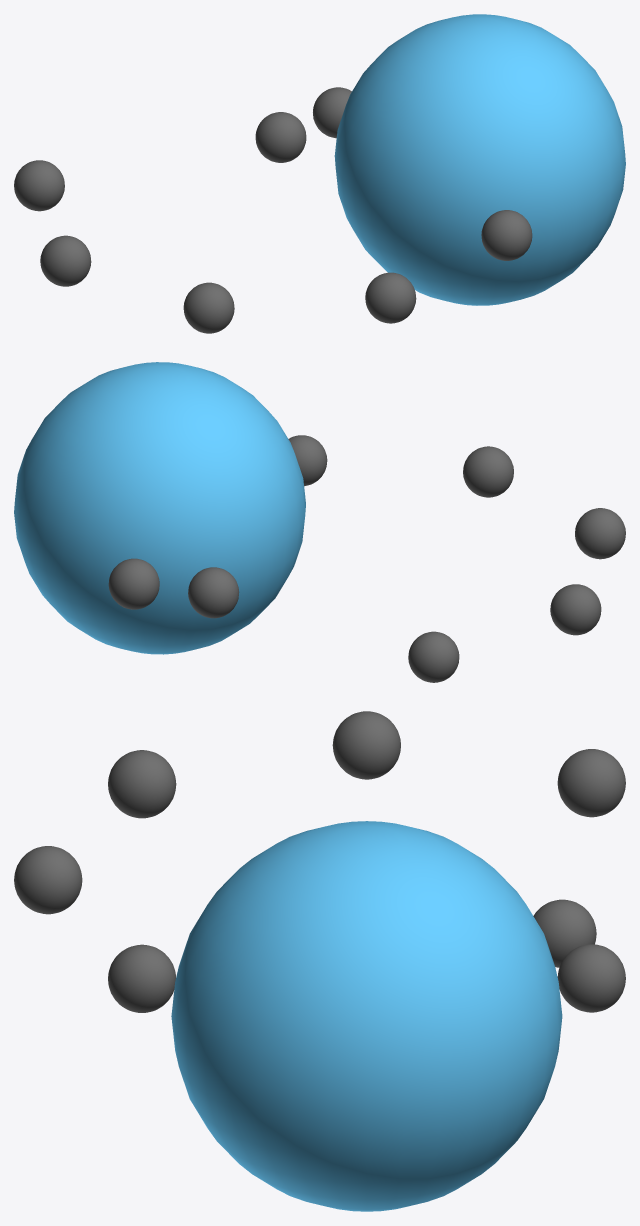
The model's file is Oxygen.glb.
3 renders of one model, top to bottom at view 1: azimuth 30°, elevation 25°; view 2: azimuth 150°, elevation 25°; view 3: azimuth 270°, elevation 25°, orthographic. The views are drawn at different scales.
Parts seen in each view (by area): view 1: Oxygen, Sphere.006, Sphere.004, Sphere.007, Sphere.005, Sphere.003, Sphere.008, Sphere.002; view 2: Oxygen, Sphere.002, Sphere.004, Sphere.005, Sphere.003, Sphere.006, Sphere.007, Sphere.008; view 3: Oxygen, Sphere.006, Sphere.005, Sphere.007, Sphere.004, Sphere.002, Sphere.008, Sphere.003.
Part boxes in pixels (x1,y1,x2,y2): Oxygen: [334, 14, 625, 305]; Sphere.006: [183, 282, 234, 333]; Sphere.004: [40, 235, 91, 286]; Sphere.007: [365, 272, 416, 323]; Sphere.005: [14, 160, 64, 211]; Sphere.003: [255, 112, 306, 162]; Sphere.008: [481, 210, 532, 260]; Sphere.002: [313, 87, 351, 138]; Oxygen: [14, 362, 305, 654]; Sphere.002: [108, 558, 159, 609]; Sphere.004: [550, 584, 601, 635]; Sphere.005: [408, 631, 459, 682]; Sphere.003: [188, 567, 239, 618]; Sphere.006: [575, 508, 625, 559]; Sphere.007: [463, 446, 513, 497]; Sphere.008: [288, 435, 327, 486]; Oxygen: [171, 821, 562, 1211]; Sphere.006: [108, 750, 176, 818]; Sphere.005: [557, 749, 625, 817]; Sphere.007: [14, 846, 82, 914]; Sphere.004: [332, 711, 400, 779]; Sphere.002: [557, 944, 625, 1012]; Sphere.008: [108, 944, 175, 1012]; Sphere.003: [533, 899, 596, 967].
Size of the model in its own units: 4.45 by 2 by 3.13.
